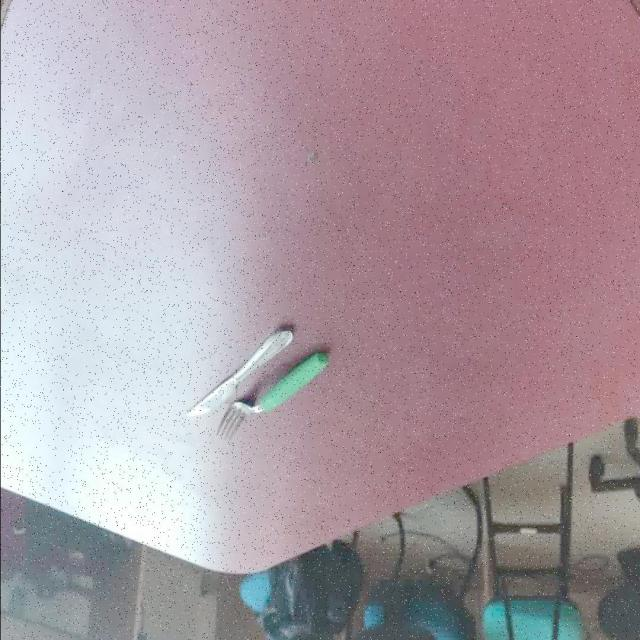Fork: (216, 349, 332, 442)
Knife: (186, 327, 294, 416)
